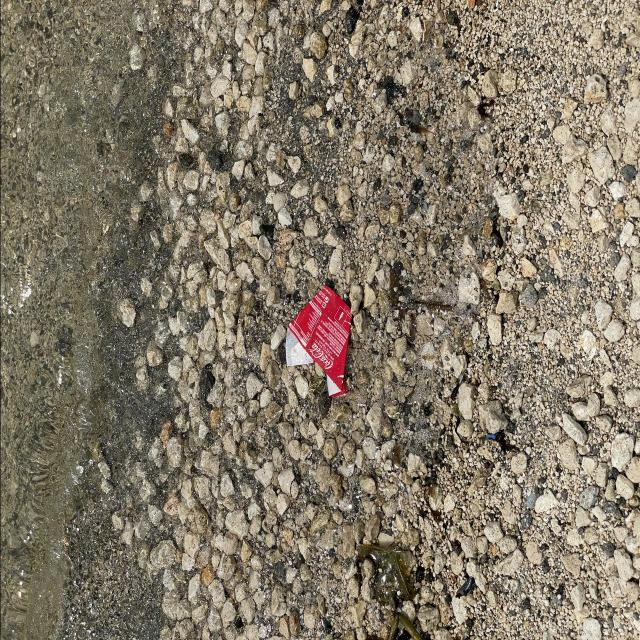plastic_waste: (283, 284, 358, 401)
